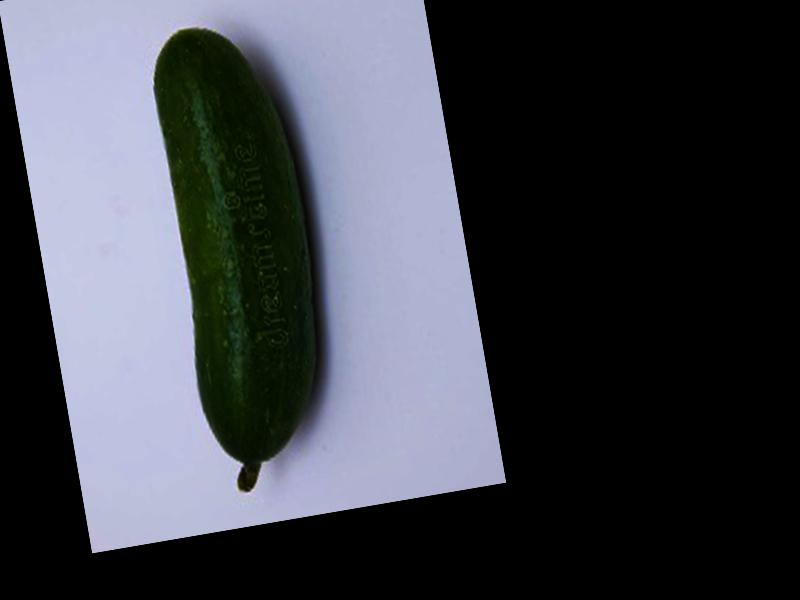Cucumber: (139, 14, 349, 496)
